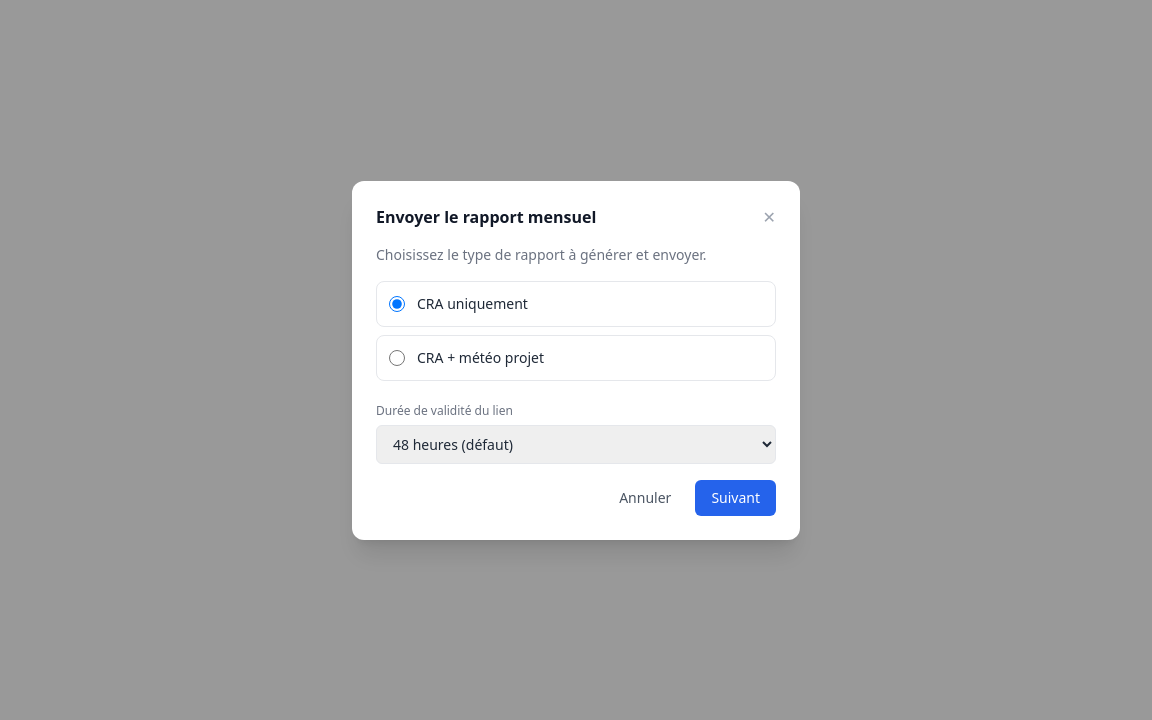
SendReportModal › renders step 2 when "Suivant" is clicked
Click the button "Suivant" at (736, 498), box 695,480 -> 776,516
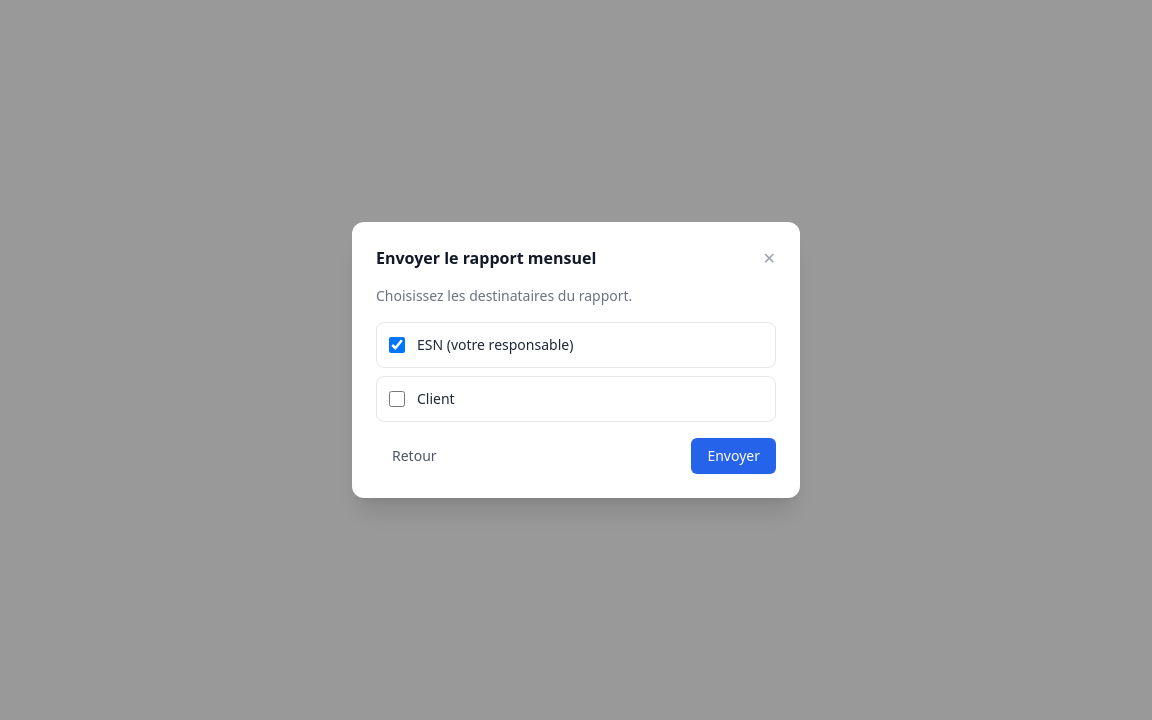
Now the checkbox labelled "ESN (votre responsable)" is shown, box 389,337 -> 405,353
Now the checkbox labelled "Client" is shown, box 389,391 -> 405,407
